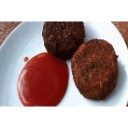cutlet: (74, 42, 120, 97), (44, 22, 83, 57)
